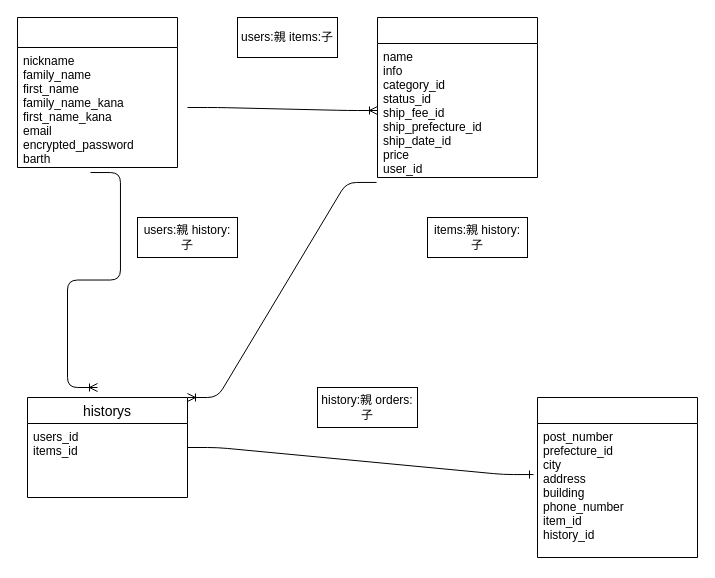
Some shapes in this 715 by 578 pixel diagram are drawn without their labels. Each missing label, with the box of its shape:
items: (376, 16, 538, 178)
orders: (536, 396, 698, 558)
users: (16, 16, 178, 168)
